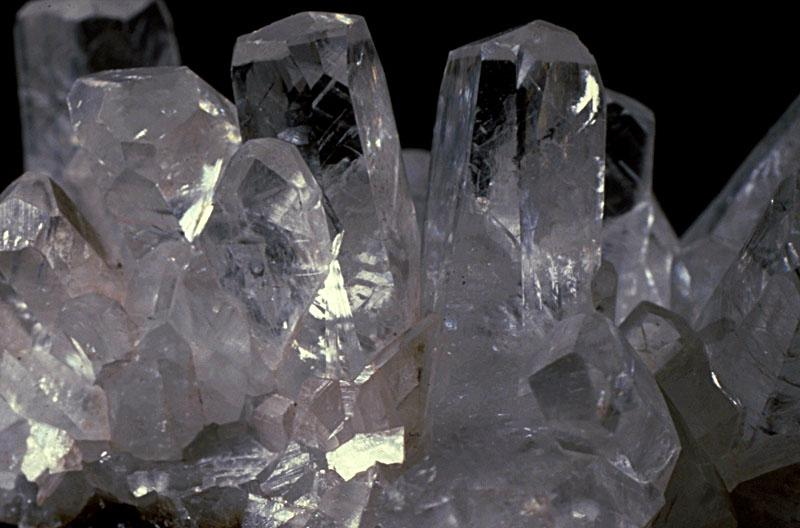calcite: (0, 12, 800, 528)
